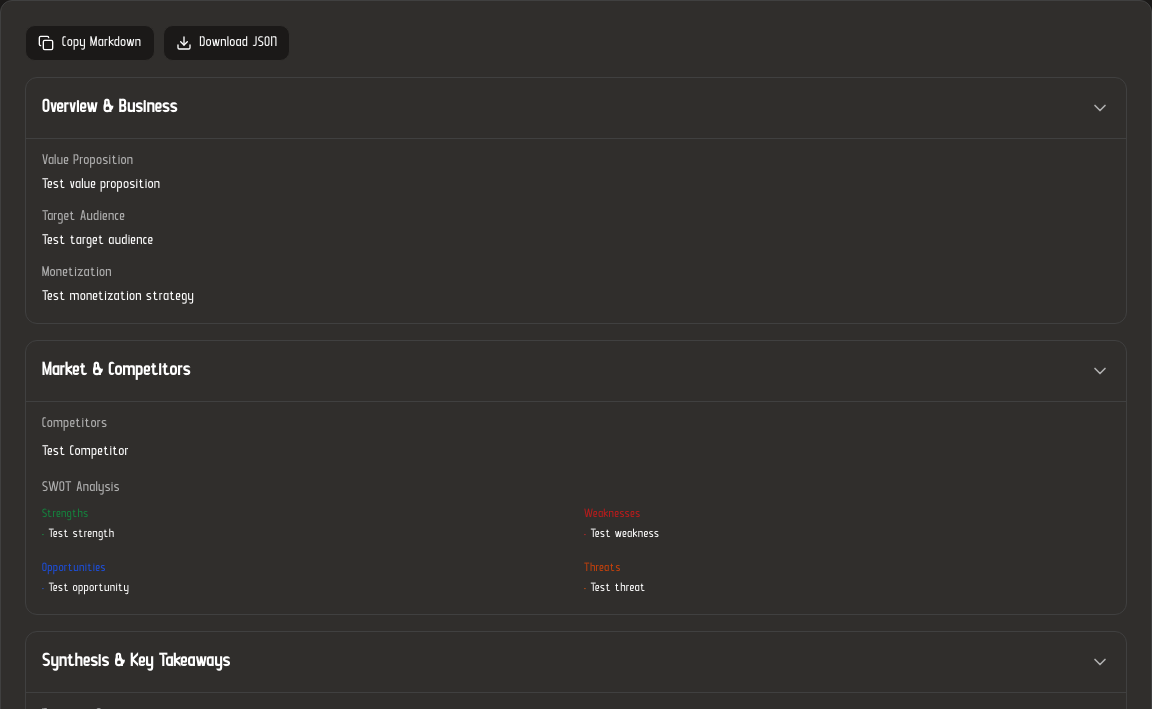
Test: StructuredReport Section Collapsible Functionality › should collapse and expand market section when clicked
Expected: the text "Test Competitor" is shown, [42,442,129,462]
# Click to collapse
Click the button "Market & Competitors" at (116, 371), box [26,341,1126,401]
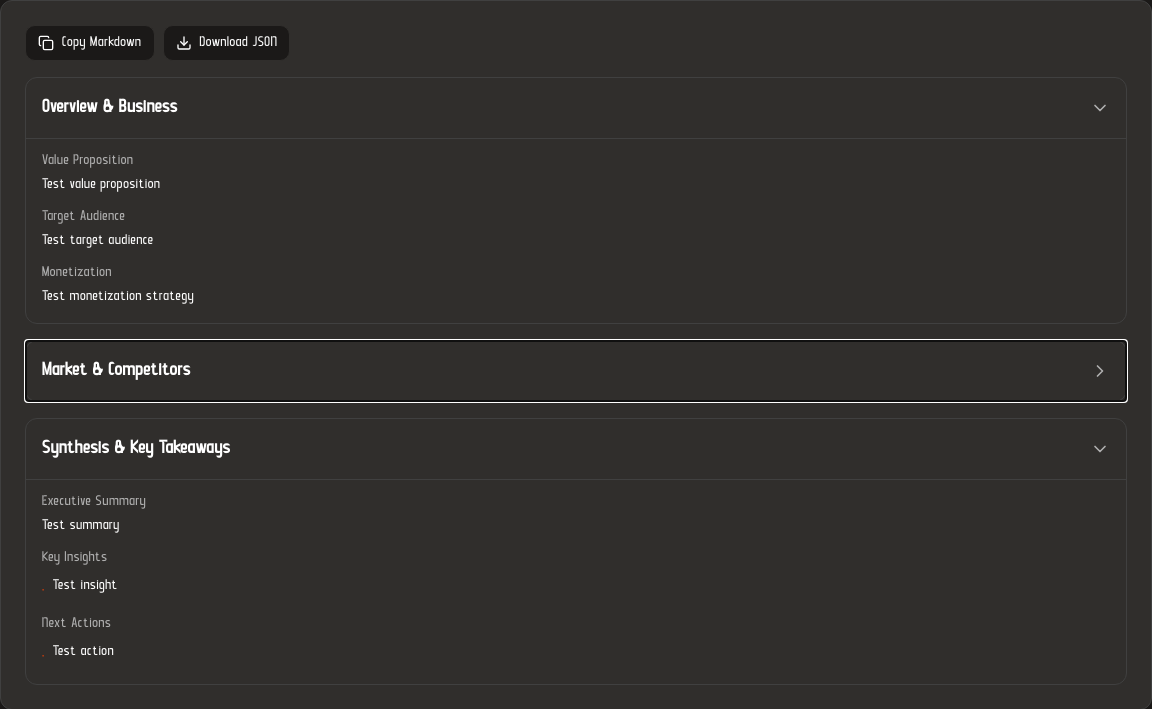
Result: the text "Test Competitor" is gone
# Click to expand again
Click the button "Market & Competitors" at (116, 371), box [26,341,1126,401]
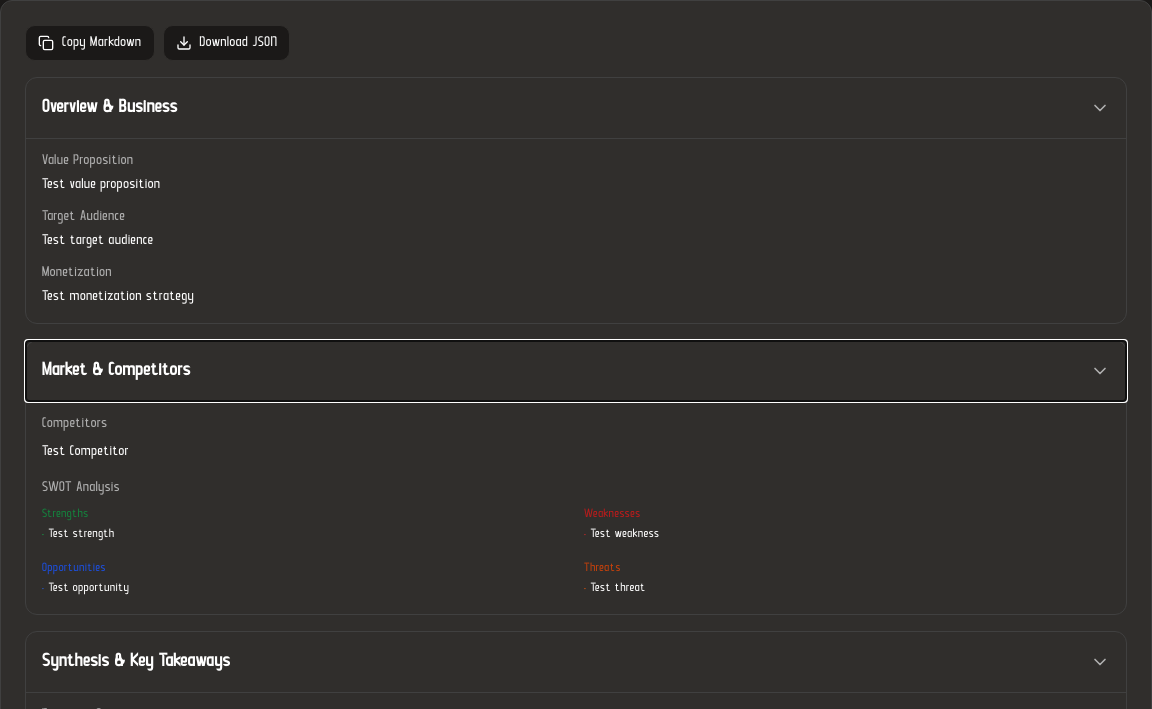
Result: the text "Test Competitor" is shown at [42,442,129,462]
